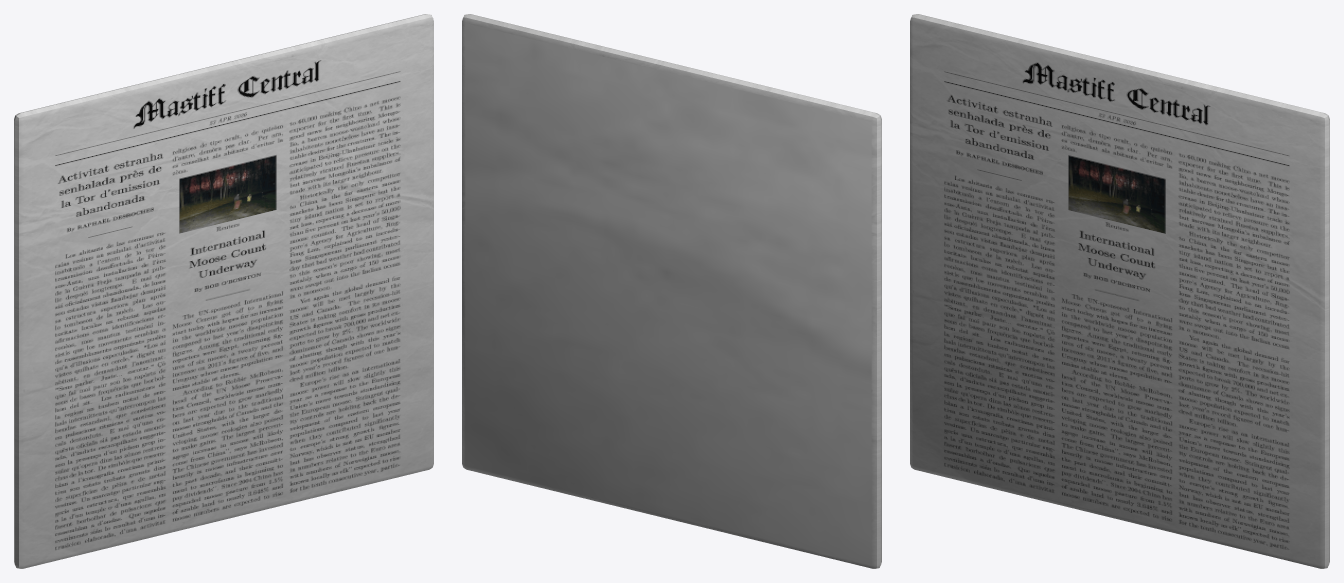
Rendered from MastiffCentral.glb.
3 views of the same model, side by side, from view 1: azimuth 30°, elevation 25°; view 2: azimuth 150°, elevation 25°; view 3: azimuth 330°, elevation 25° (orthographic).
Parts seen in each view (by area): view 1: Newspaper; view 2: Newspaper; view 3: Newspaper.
Part boxes in pixels (<box>): Newspaper: <box>14,14,433,568</box>; Newspaper: <box>462,14,881,568</box>; Newspaper: <box>910,14,1329,568</box>.
Bounding box in the file's own units: 5.03 × 5.23 × 0.1434.
1 material, 1 textured.
